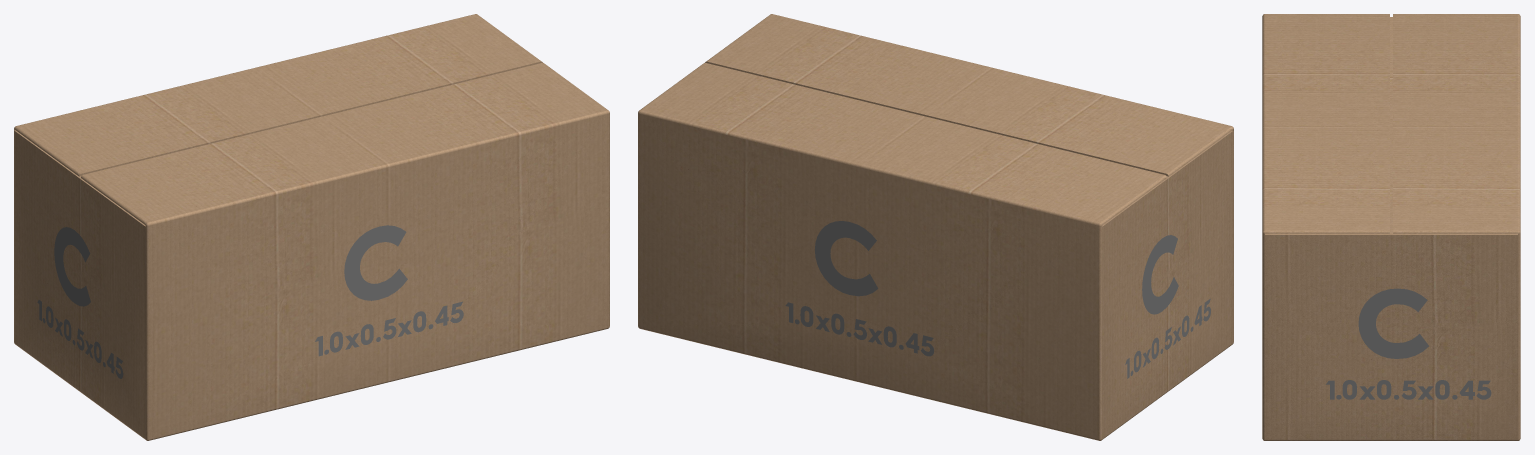
Rendered from THUNG_C.glb.
3 views of the same model, side by side, from view 1: azimuth 30°, elevation 25°; view 2: azimuth 150°, elevation 25°; view 3: azimuth 270°, elevation 25° (orthographic). The views are drawn at different scales.
Visible parts, largest first — view 1: Geom3D (×2); view 2: Geom3D (×2); view 3: Geom3D (×2).
Boxes of the visible parts, x1=… form: Geom3D (×2): x1=14, y1=14, x2=609, y2=440; Geom3D (×2): x1=638, y1=14, x2=1233, y2=440; Geom3D (×2): x1=1262, y1=14, x2=1520, y2=440.
Bounding box in the file's own units: 1 × 0.45 × 0.5.
2 materials, 1 textured.
